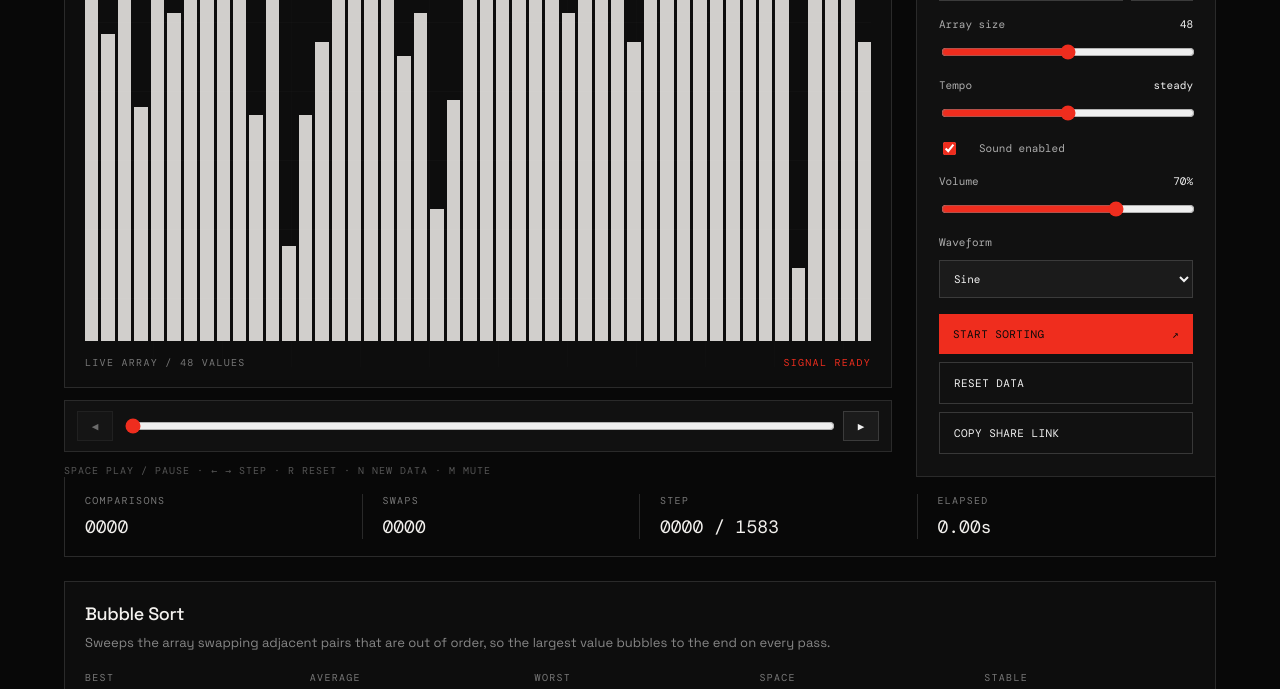
Test case: Sort With Sound controls › starts, pauses, resumes and resets a sorting session
(page scrolled)
What coordinates should you click on to do the following:
click the button "Start sorting ↗"
I would click on:
 (1066, 334)
Its box is [939, 314, 1193, 354].
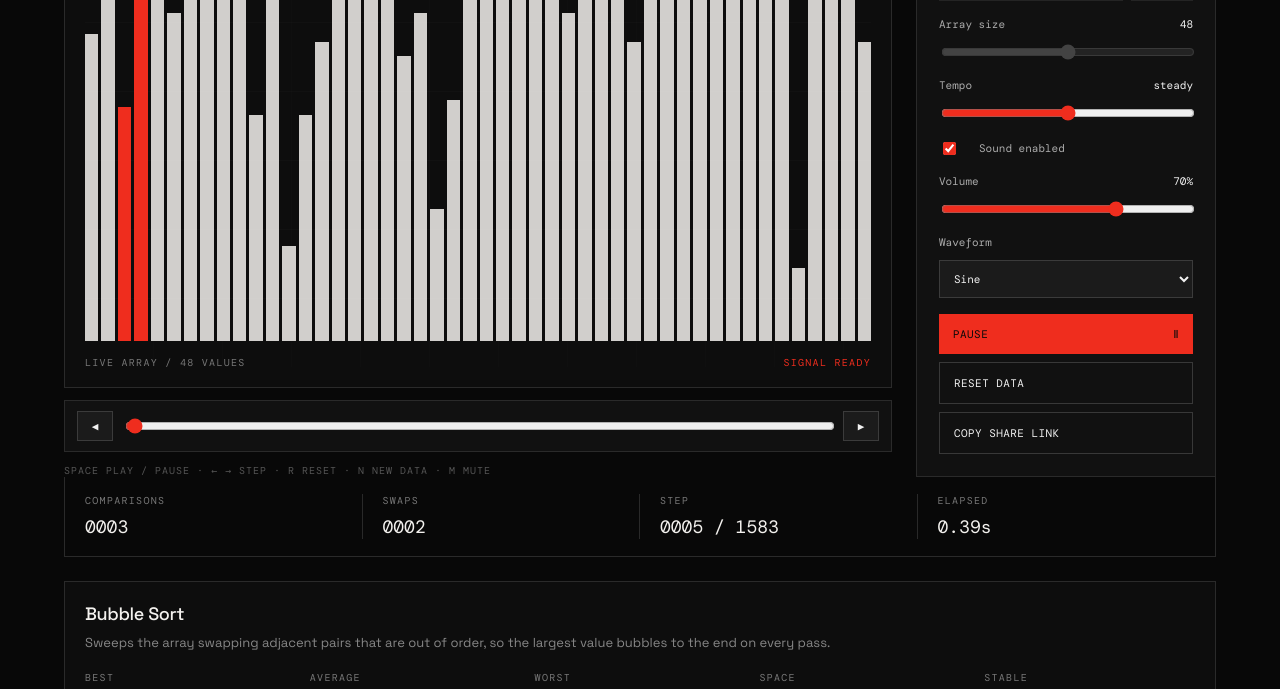
What coordinates should you click on to do the following:
click the button with aria-label "pause sorting"
I would click on:
 (1066, 334)
Its box is [939, 314, 1193, 354].
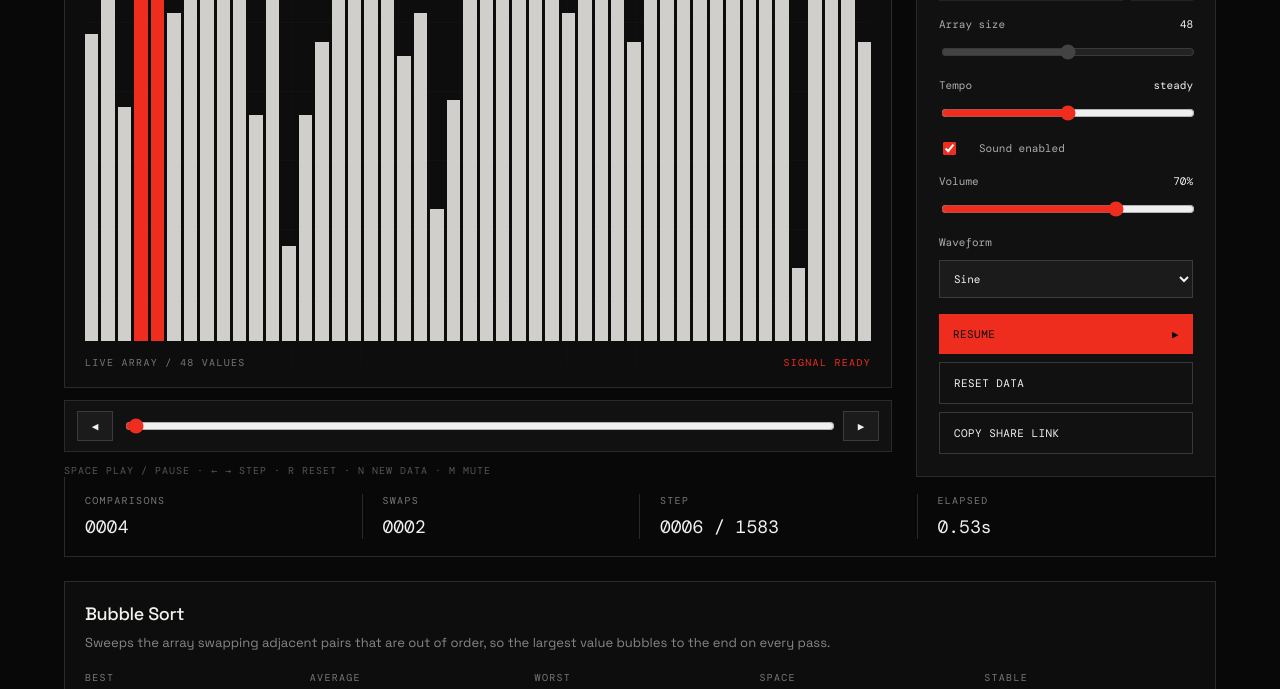
What coordinates should you click on to do the following:
click the button with aria-label "resume sorting"
I would click on:
 (1066, 334)
Its box is [939, 314, 1193, 354].
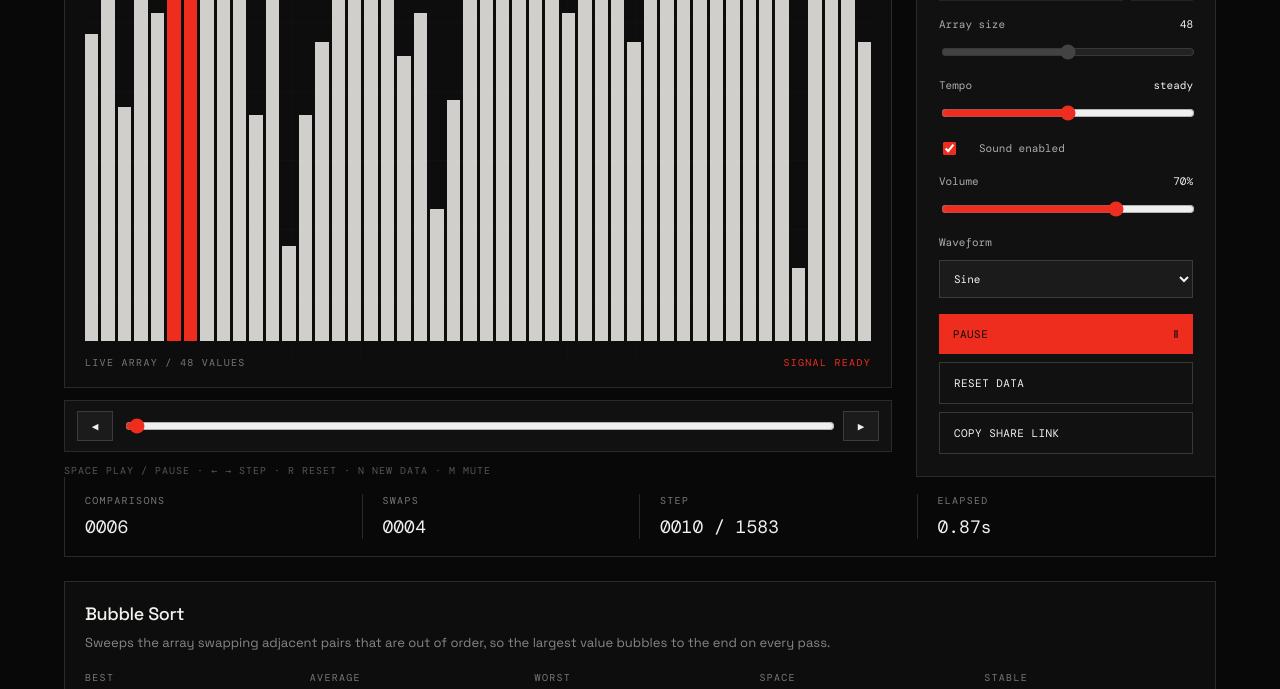
What coordinates should you click on to do the following:
click the button "Reset data"
I would click on:
 (1066, 383)
Its box is [939, 362, 1193, 404].
(page scrolled)
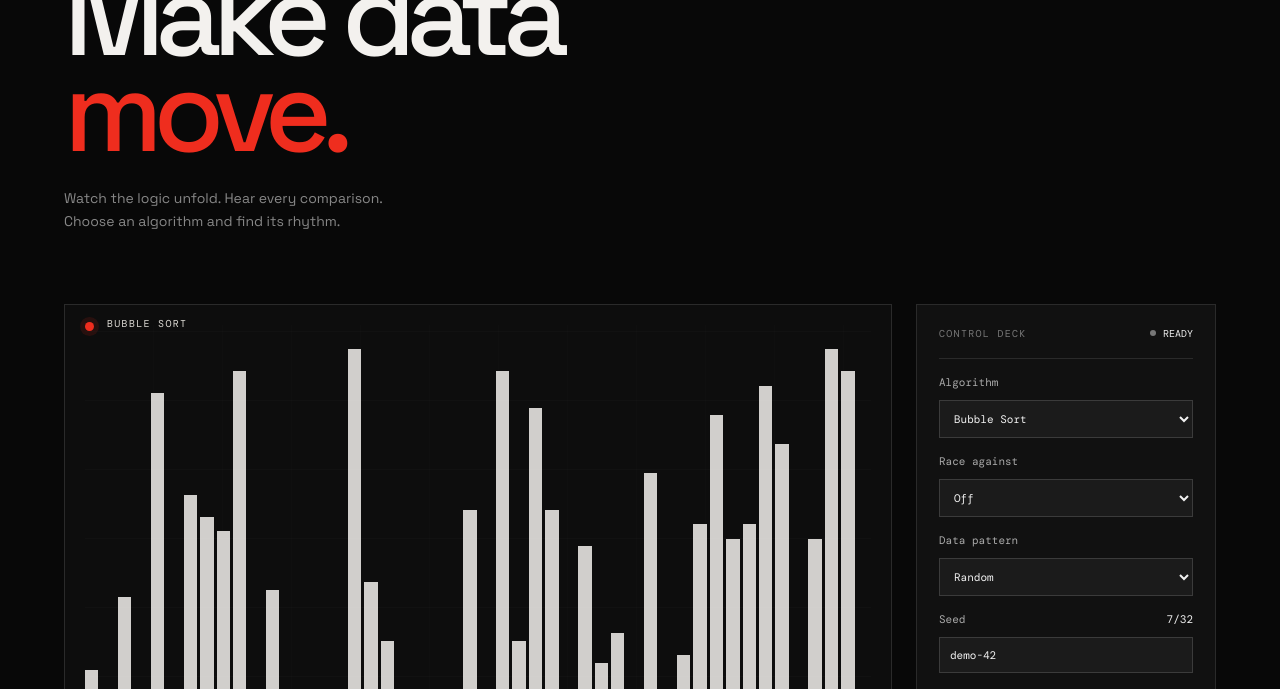
expect the message "ready" is shown: met, box [1150, 327, 1193, 340]
